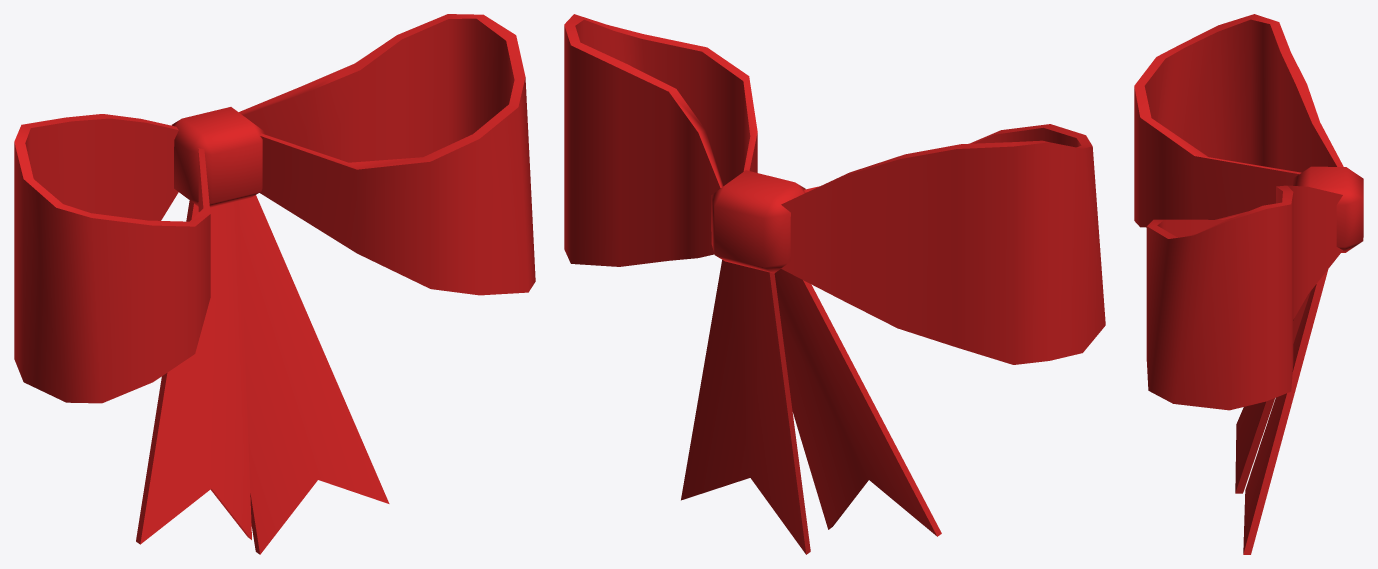
File: Bow_2.glb
3 renders of one model, left to right at view 1: azimuth 30°, elevation 25°; view 2: azimuth 150°, elevation 25°; view 3: azimuth 270°, elevation 25°, orthographic. The views are drawn at different scales.
Parts seen in each view (by area): view 1: Bow_2; view 2: Bow_2; view 3: Bow_2.
Boxes of the visible parts, bbox=[...] form: Bow_2: bbox=[14, 14, 535, 554]; Bow_2: bbox=[564, 14, 1105, 554]; Bow_2: bbox=[1134, 14, 1363, 554].
Bounding box in the file's own units: 1.66 × 1.51 × 0.768.
Materials: 1 (1 with a texture image).
